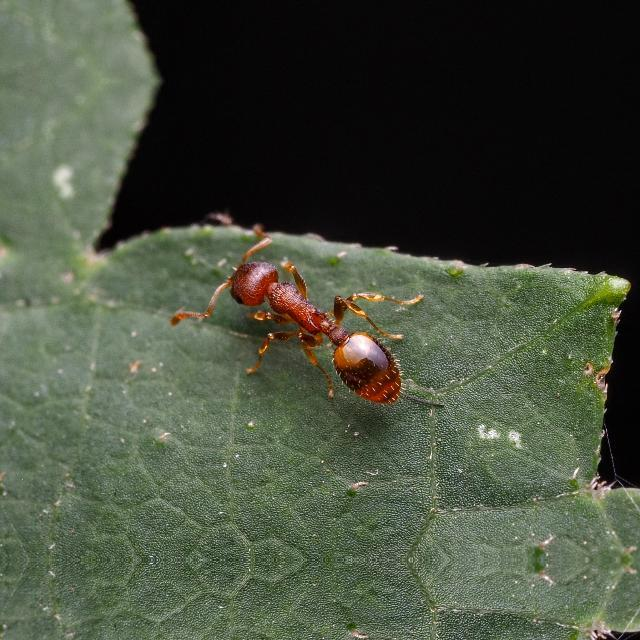Temnothorax: (187, 220, 441, 416)
